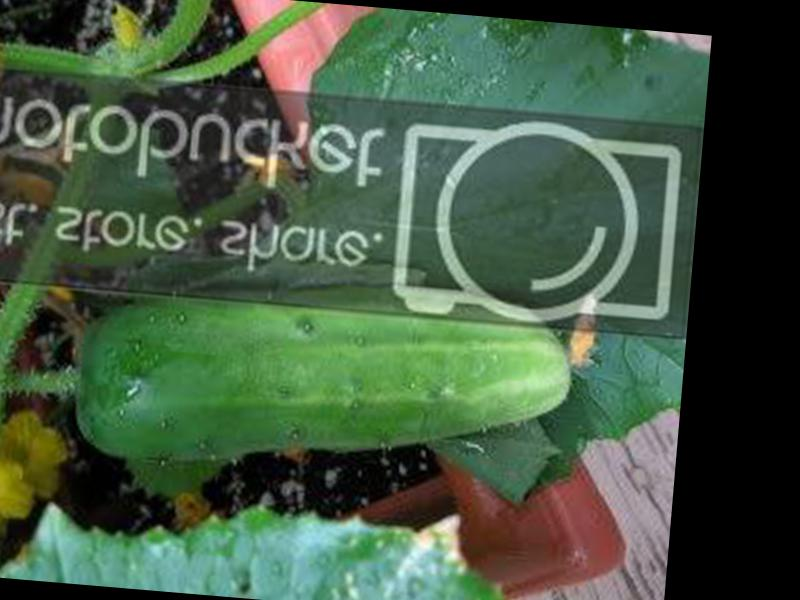Cucumber: (74, 258, 582, 497)
